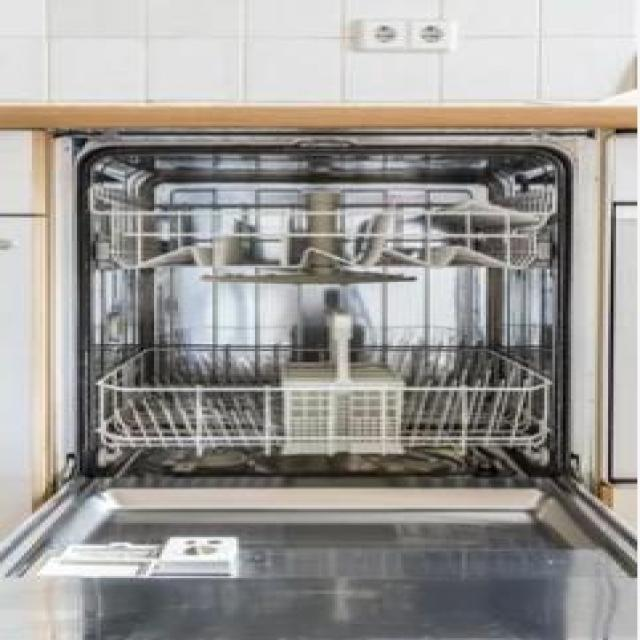dishwasher: (0, 124, 637, 638)
